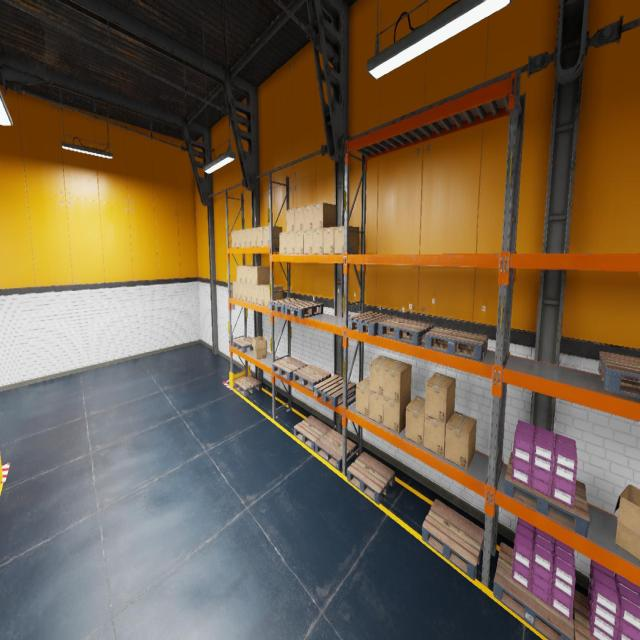box: (614, 485, 640, 560), (445, 411, 476, 470), (425, 372, 456, 423), (424, 412, 454, 457), (384, 360, 411, 403), (369, 355, 396, 396), (383, 394, 411, 433), (406, 396, 426, 446), (334, 226, 359, 253), (313, 202, 336, 229), (369, 390, 384, 425), (356, 377, 369, 417), (286, 232, 306, 254), (263, 226, 282, 246), (264, 285, 282, 306), (252, 336, 267, 359), (252, 266, 270, 285), (258, 285, 274, 305), (323, 227, 334, 254), (279, 232, 292, 254), (313, 228, 323, 254), (303, 204, 313, 230), (242, 266, 256, 284), (303, 229, 313, 254), (246, 266, 259, 285), (294, 206, 303, 231), (236, 266, 249, 282), (286, 208, 294, 232), (295, 230, 303, 253), (257, 226, 263, 246), (252, 285, 258, 303), (251, 228, 257, 246), (246, 228, 251, 247), (247, 284, 252, 302), (241, 229, 246, 247), (231, 230, 236, 248), (237, 283, 242, 300), (232, 282, 237, 298), (242, 283, 246, 301), (236, 230, 240, 247)
pallets: (493, 542, 574, 640), (504, 452, 590, 537), (422, 499, 484, 580), (347, 452, 395, 504), (424, 326, 488, 361), (598, 352, 640, 398), (315, 429, 356, 471), (378, 317, 434, 346), (314, 374, 356, 408), (294, 416, 331, 450), (348, 311, 396, 336), (573, 590, 596, 640), (293, 364, 331, 392), (272, 357, 307, 380), (285, 301, 323, 318), (269, 298, 305, 314), (234, 376, 262, 396), (232, 337, 253, 352)
